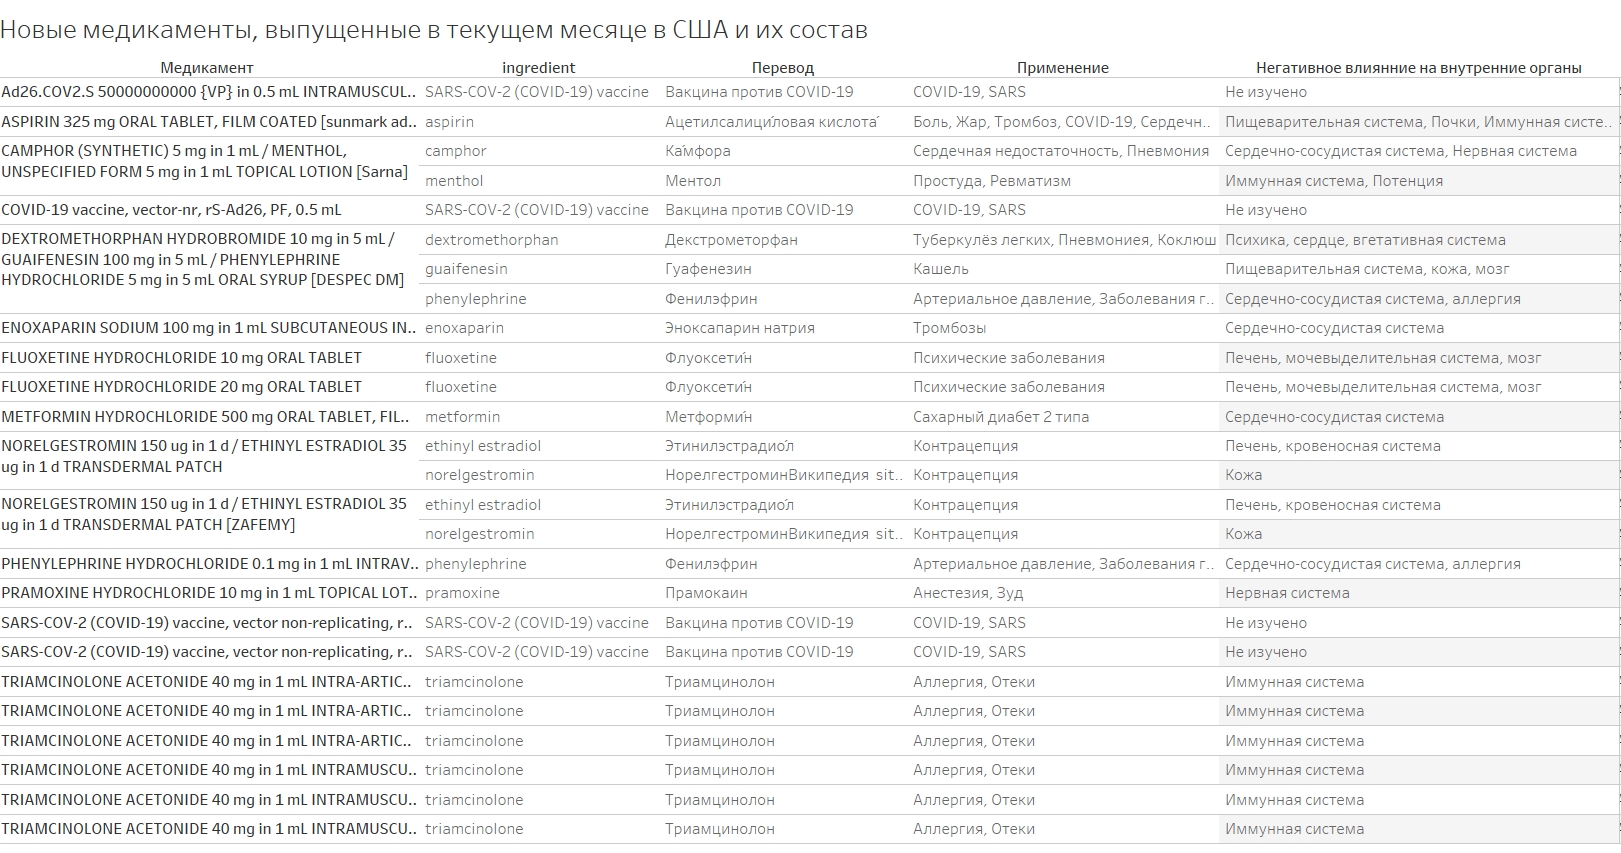

What the dashboard file says about the page in this screenshot:
{"tool":"tableau","page":{"name":"Dashboard 2","canvas":[1000,1000],"units":"permille","ordinal":0},"visuals":[{"type":"worksheet","title":"Sheet 2","mark":"Automatic","rows":["str","ingredient","Перевод","Применение","Негативное влиянние на внутренние органы"],"box":[4.8,9.3,990.3,981.4]}]}

Visuals, with their boxes on the dashboard's canvas, which has no fixed pixel size, in thousandths of its width and height (x1, y1, x2, y2). These are canvas units, not pixel positions in the 1621x853 screenshot, which may show the page scaled, cropped or inside an application window:
"Sheet 2" worksheet: rect(5, 9, 995, 991)
